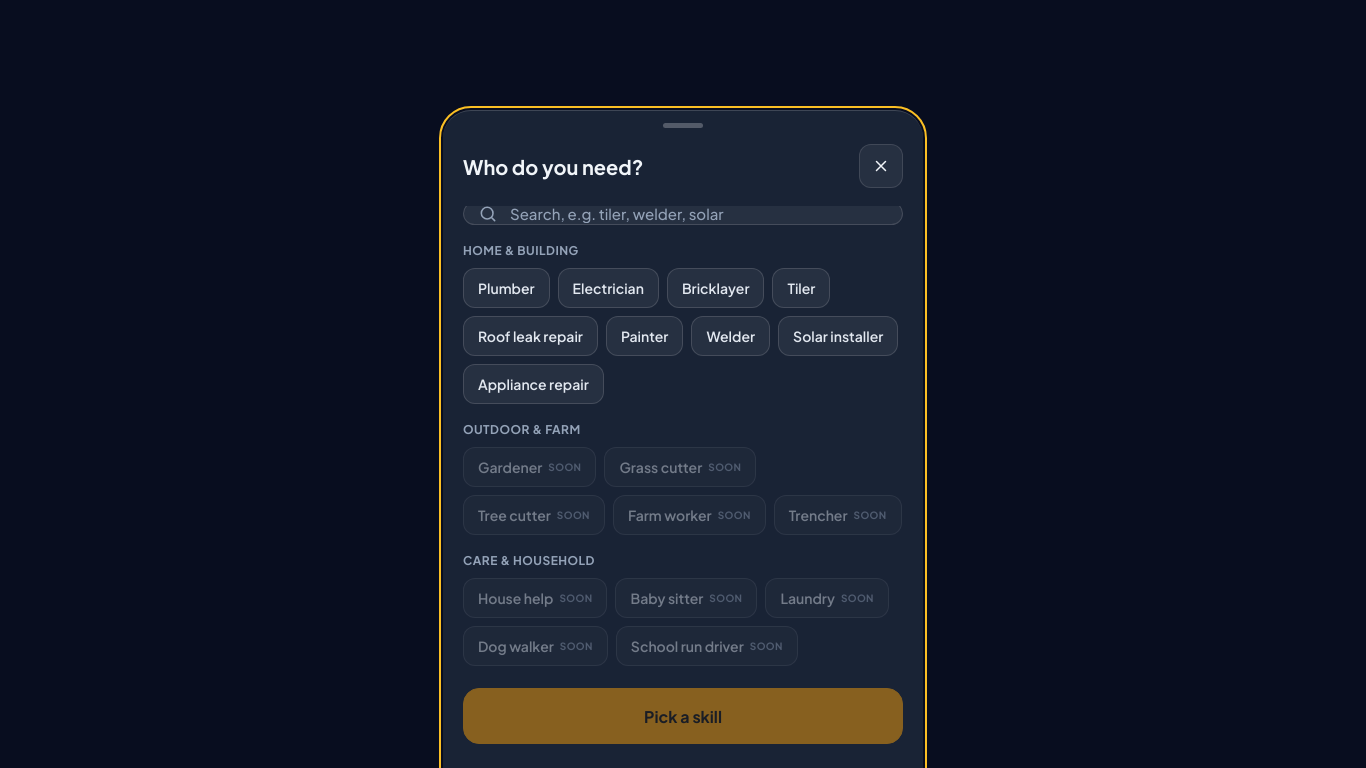
TradePickerSheet › filters by search
Step 1. Type "sol" into the search field named "Search skills" → [698, 214], box [508,203,888,224]
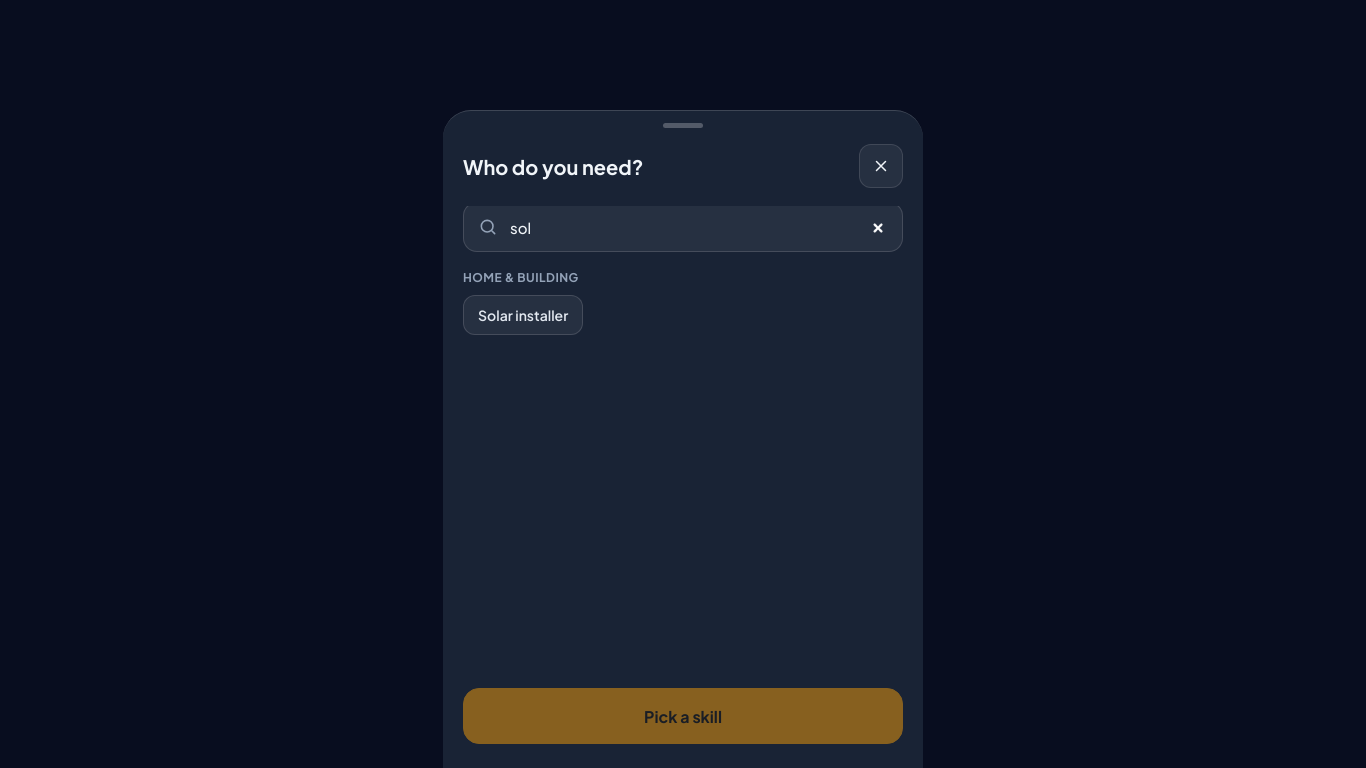
Expected: the button "Solar installer" is shown, [463,295,583,335]
Result: the button "Plumber" is gone
